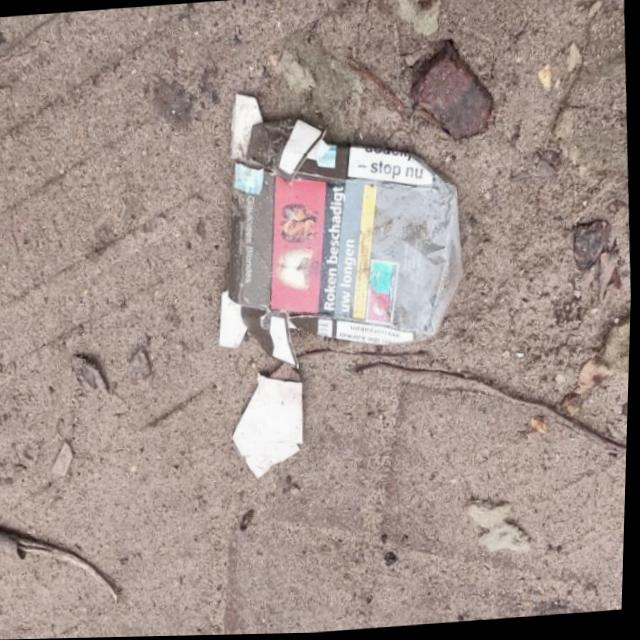Paper: (203, 76, 471, 373)
